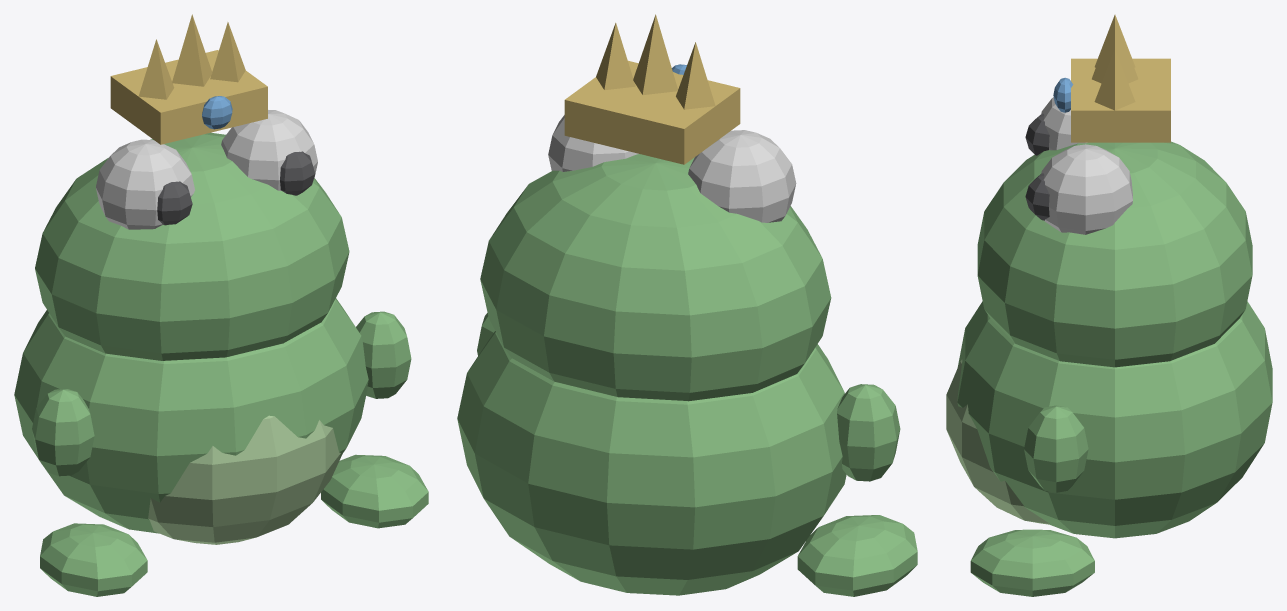
The model's file is frog.glb.
3 views of the same model, side by side, from view 1: azimuth 30°, elevation 25°; view 2: azimuth 150°, elevation 25°; view 3: azimuth 270°, elevation 25° (orthographic). The views are drawn at different scales.
Parts seen in each view (by area): view 1: frog; view 2: frog; view 3: frog.
Part boxes in pixels (box(x1,y1,x2,y2)): frog: box(14, 14, 428, 596); frog: box(457, 14, 917, 596); frog: box(946, 14, 1272, 596).
Size of the model in its own units: 1.46 by 1.9 by 1.11.
